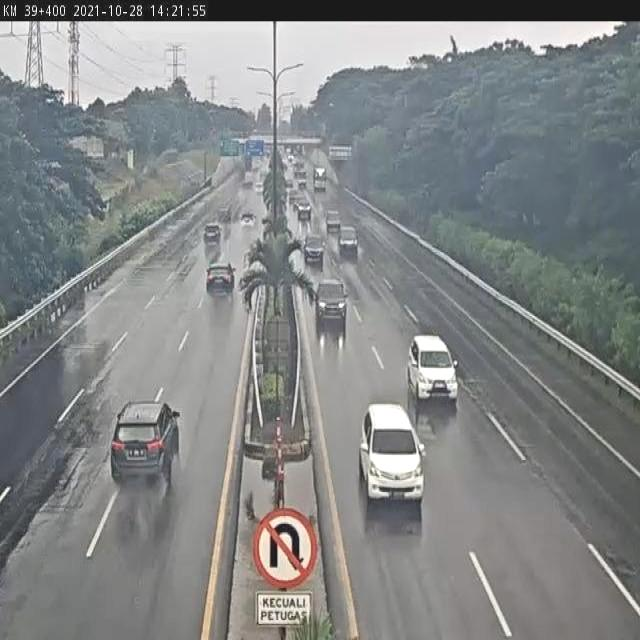Bus: (313, 165, 327, 192)
Car: (358, 403, 428, 508), (110, 401, 178, 486), (408, 336, 458, 402), (315, 276, 348, 322), (206, 262, 235, 294), (302, 232, 326, 262), (337, 225, 359, 256), (203, 224, 220, 245), (326, 209, 341, 232), (297, 201, 313, 219), (240, 210, 256, 228), (216, 203, 231, 220), (293, 195, 307, 212), (288, 190, 298, 204), (254, 182, 264, 194), (284, 178, 294, 188), (298, 177, 306, 189)
Truck: (244, 171, 254, 186)
